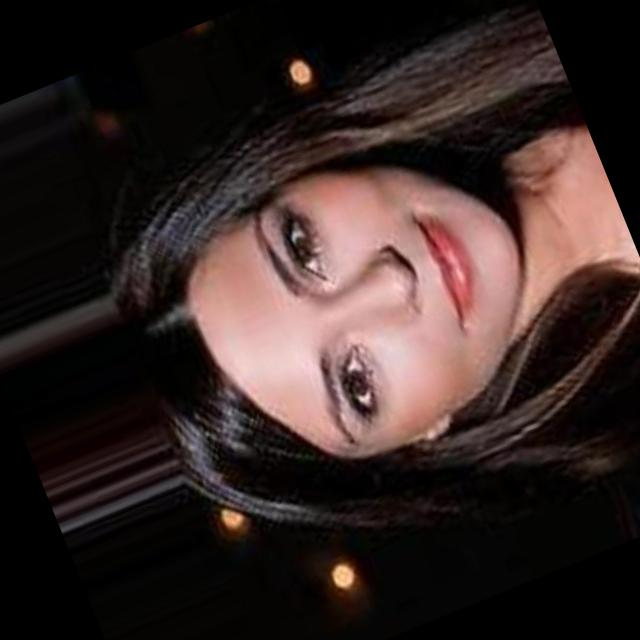bareface: (87, 44, 611, 572)
